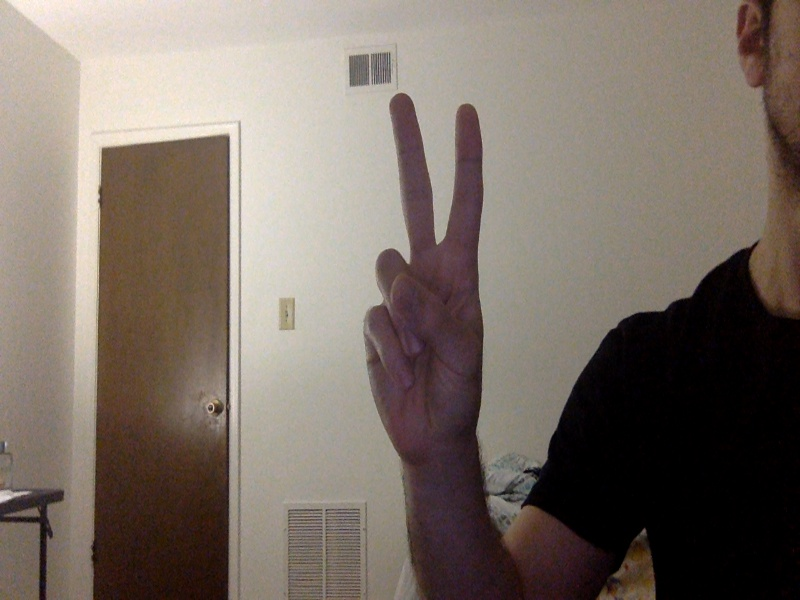2-hand: (362, 92, 488, 470)
